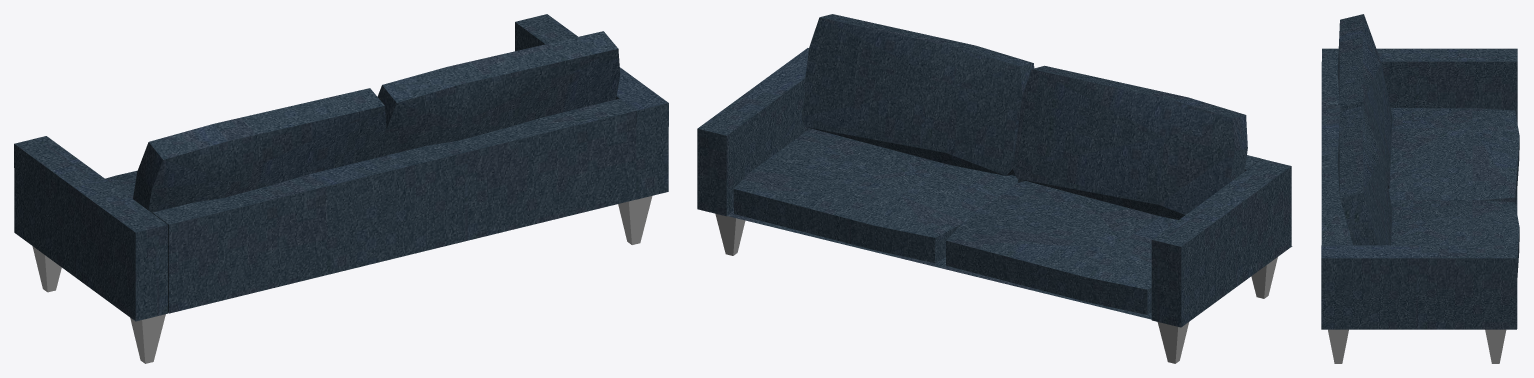
Rendered from sofa.gltf.
3 renders of one model, left to right at view 1: azimuth 30°, elevation 25°; view 2: azimuth 150°, elevation 25°; view 3: azimuth 270°, elevation 25°, orthographic. The views are drawn at different scales.
Visible parts, largest first — view 1: ID93, ID37, ID45, ID53, ID29_0, ID77_0, ID6_0; view 2: ID37, ID69, ID61, ID45, ID53, ID85, ID6_0, ID21_0, ID29_0; view 3: ID53, ID61, ID37, ID45, ID69, ID93, ID77_0, ID21_0.
Part boxes in pixels (bbox=[...]): ID93: bbox=[152, 98, 636, 313]; ID37: bbox=[133, 31, 620, 212]; ID45: bbox=[14, 136, 167, 321]; ID53: bbox=[515, 14, 668, 199]; ID29_0: bbox=[130, 314, 165, 363]; ID77_0: bbox=[618, 196, 652, 244]; ID6_0: bbox=[32, 246, 61, 292]; ID37: bbox=[801, 14, 1247, 219]; ID69: bbox=[733, 129, 1018, 262]; ID61: bbox=[946, 181, 1178, 314]; ID45: bbox=[1151, 159, 1291, 327]; ID53: bbox=[697, 48, 812, 216]; ID85: bbox=[697, 208, 1292, 319]; ID6_0: bbox=[1157, 322, 1188, 363]; ID21_0: bbox=[715, 213, 745, 255]; ID29_0: bbox=[1251, 257, 1277, 298]; ID53: bbox=[1321, 245, 1516, 329]; ID61: bbox=[1388, 108, 1519, 205]; ID37: bbox=[1337, 14, 1392, 245]; ID45: bbox=[1322, 48, 1517, 123]; ID69: bbox=[1390, 200, 1519, 282]; ID93: bbox=[1321, 61, 1348, 245]; ID77_0: bbox=[1328, 329, 1348, 363]; ID21_0: bbox=[1485, 329, 1506, 363].
Bounding box in the file's own units: 2.64 × 0.9767 × 1.06.
15 materials, 11 textured.
